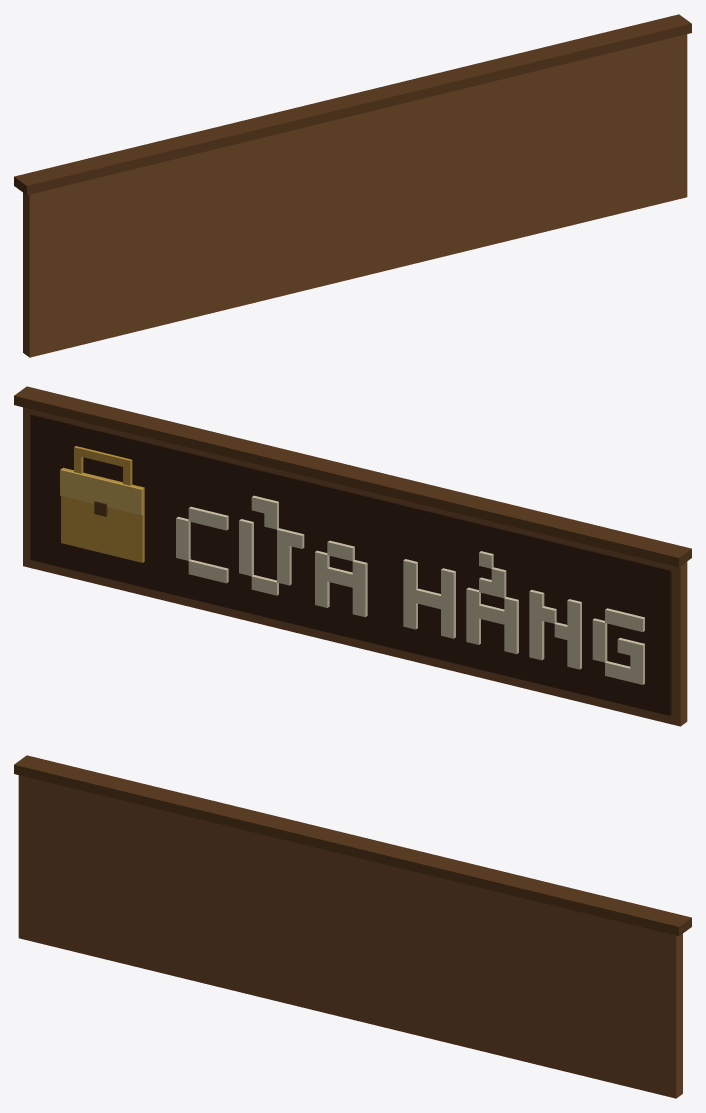
File: tt-sign-shop.glb
3 renders of one model, top to bottom at view 1: azimuth 30°, elevation 25°; view 2: azimuth 150°, elevation 25°; view 3: azimuth 330°, elevation 25°, orthographic.
Parts seen in each view (by area): view 1: box-prop; view 2: box-prop; view 3: box-prop.
Boxes of the visible parts, <box> form: box-prop: <box>14,14,691,357</box>; box-prop: <box>14,386,691,726</box>; box-prop: <box>14,755,691,1098</box>.
Size of the model in its own units: 8.96 by 2.23 by 0.3.
